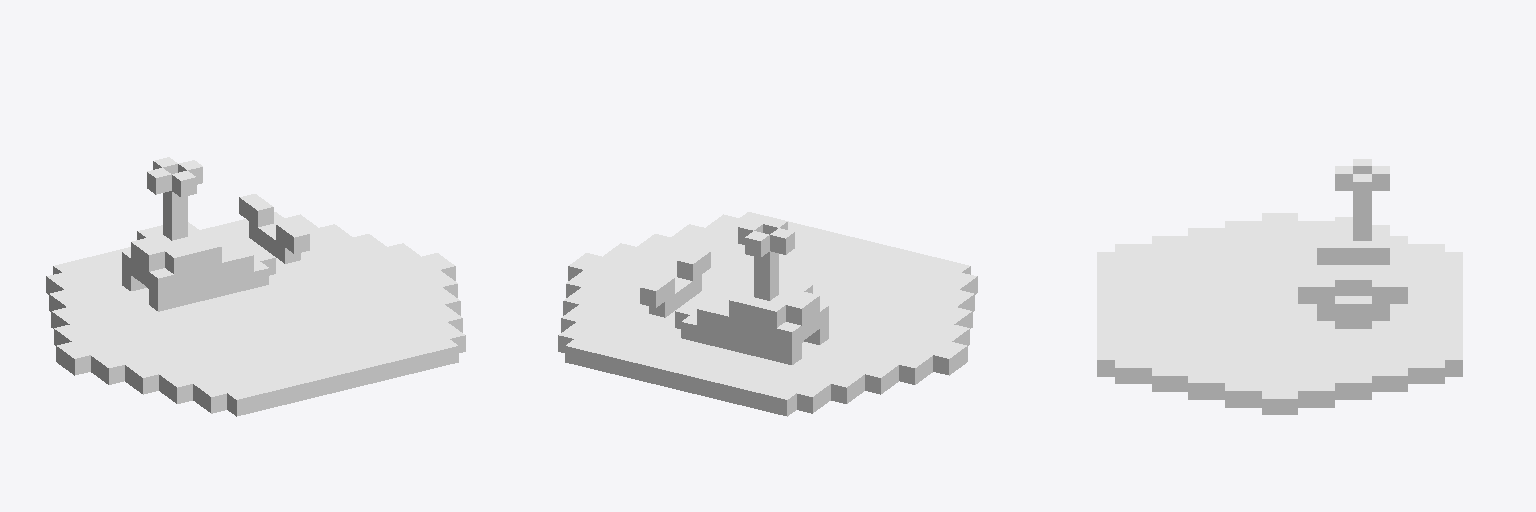
Rendered from overworld-44-ocean_whale.obj.
The picture shows the model from 3 angles: view 1: azimuth 30°, elevation 25°; view 2: azimuth 150°, elevation 25°; view 3: azimuth 270°, elevation 25°; orthographic projection.
Parts seen in each view (by area): view 1: ocean_whale; view 2: ocean_whale; view 3: ocean_whale.
Boxes of the visible parts, <box> form: ocean_whale: <box>46,157,465,416</box>; ocean_whale: <box>558,212,977,416</box>; ocean_whale: <box>1097,159,1462,414</box>.
Bounding box in the file's own units: 2.4 × 0.8 × 2.